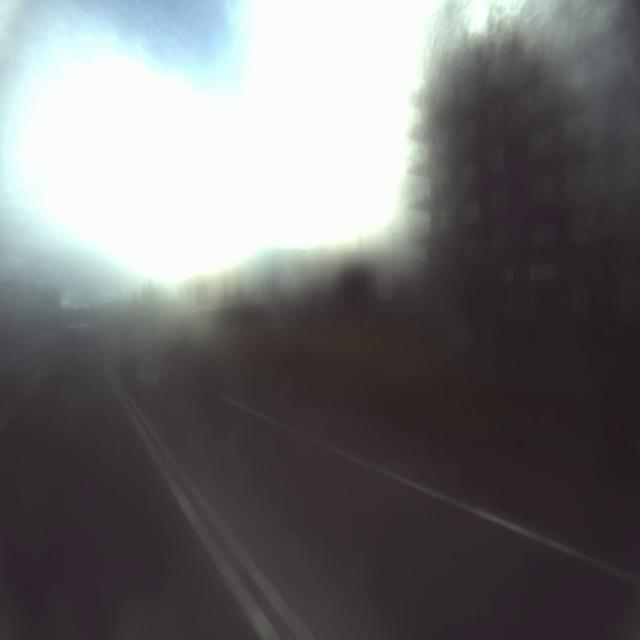car: (51, 325, 109, 383)
